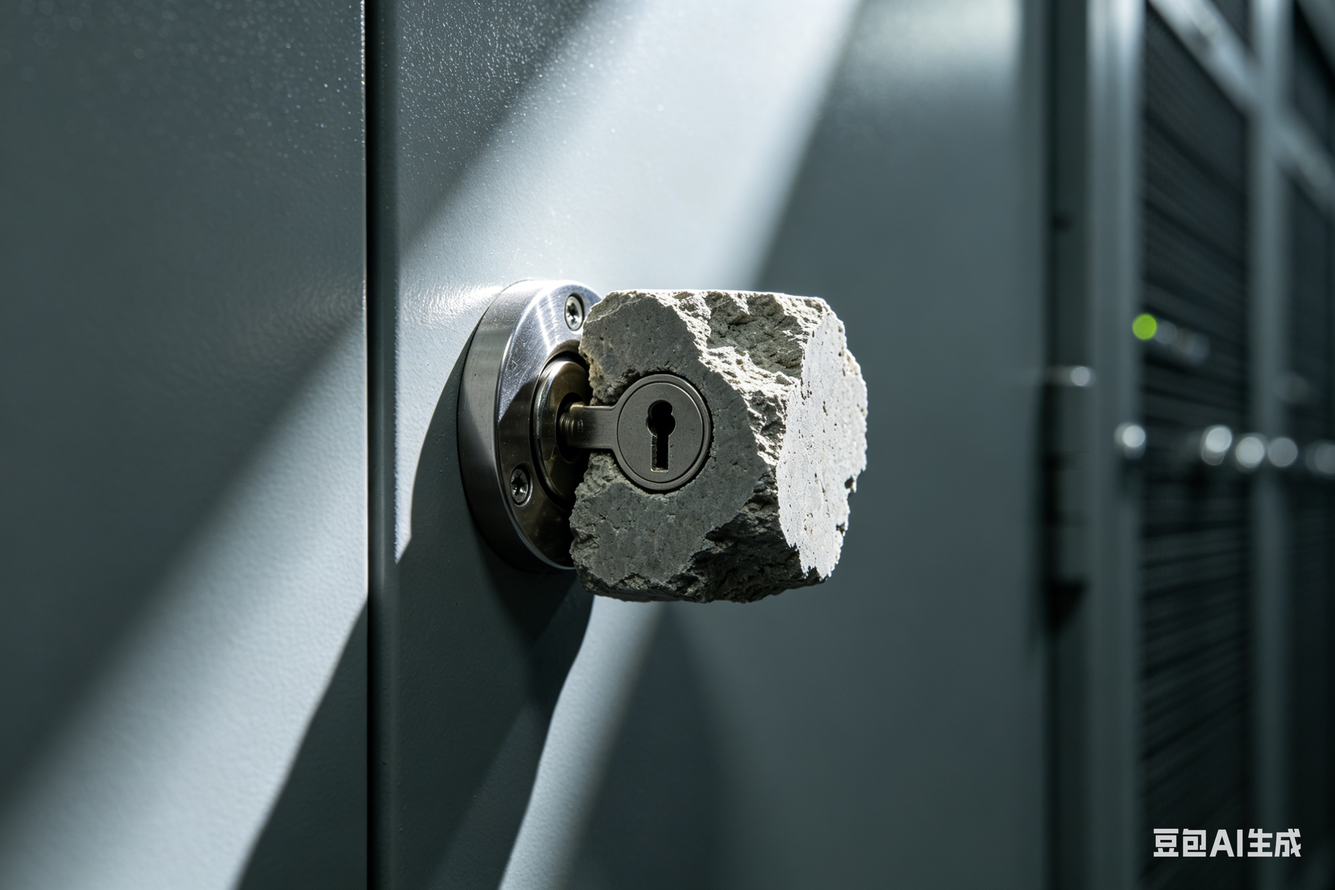BadLock: (550, 296, 841, 571)
